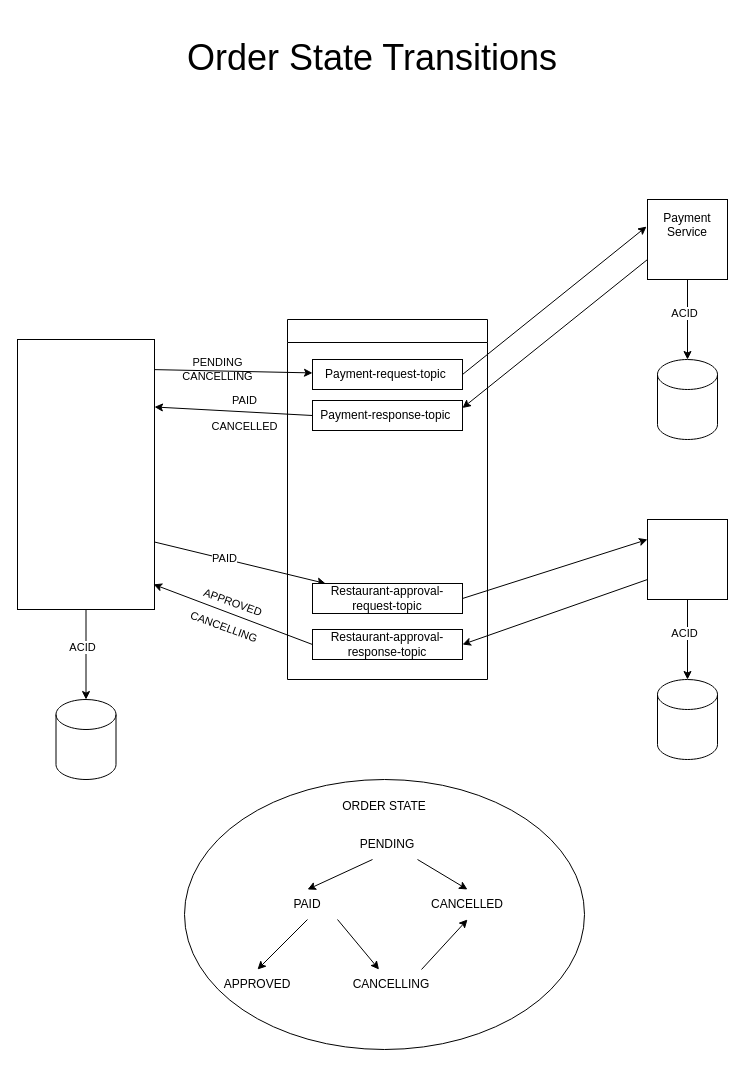
The diagram is 745 pixels wide and 1067 high, and some of its shapes have lost their labels. Each missing label, with the box of its shape:
KAFKA: (286, 318, 488, 680)
Order Service SAGA Coordinator: (16, 338, 154, 610)
Restaurant Service: (646, 518, 728, 600)
